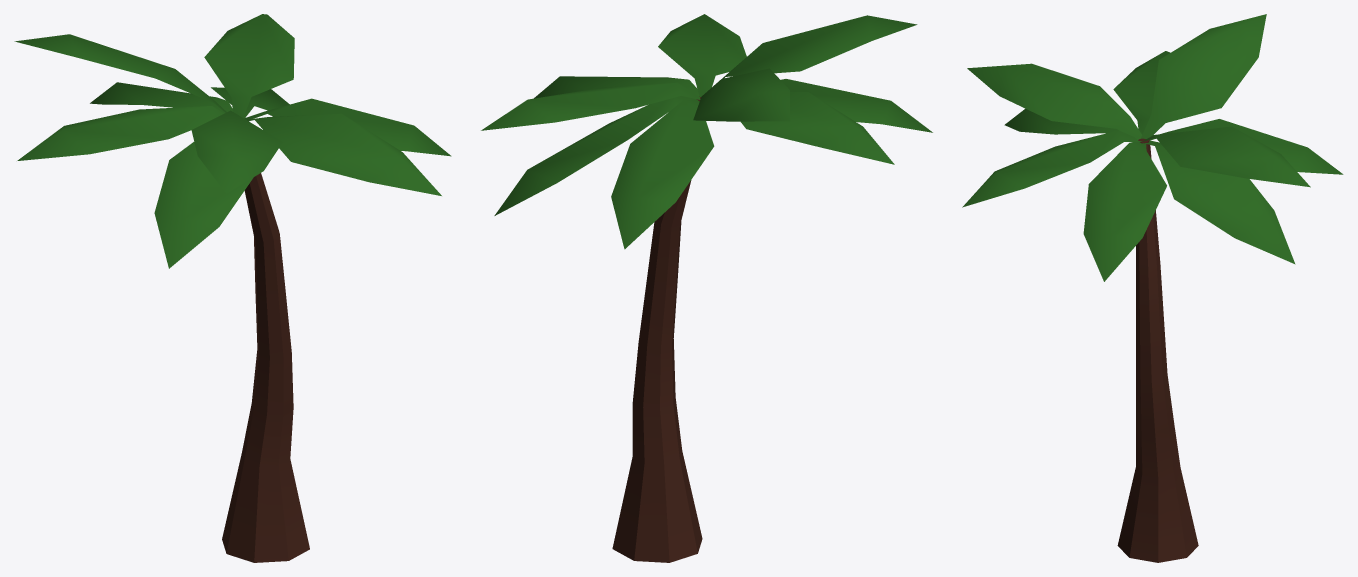
File: SM_palmtree_05_LOD3.fbx
The picture shows the model from 3 angles, left to right: view 1: azimuth 30°, elevation 25°; view 2: azimuth 150°, elevation 25°; view 3: azimuth 270°, elevation 25°; orthographic projection. The views are drawn at different scales.
Parts seen in each view (by area): view 1: Palm_tree_02; view 2: Palm_tree_02; view 3: Palm_tree_02.
Boxes of the visible parts, bbox=[...] form: Palm_tree_02: bbox=[14, 14, 451, 562]; Palm_tree_02: bbox=[481, 14, 932, 562]; Palm_tree_02: bbox=[962, 14, 1343, 562].
Bounding box in the file's own units: 499 × 617 × 469.
